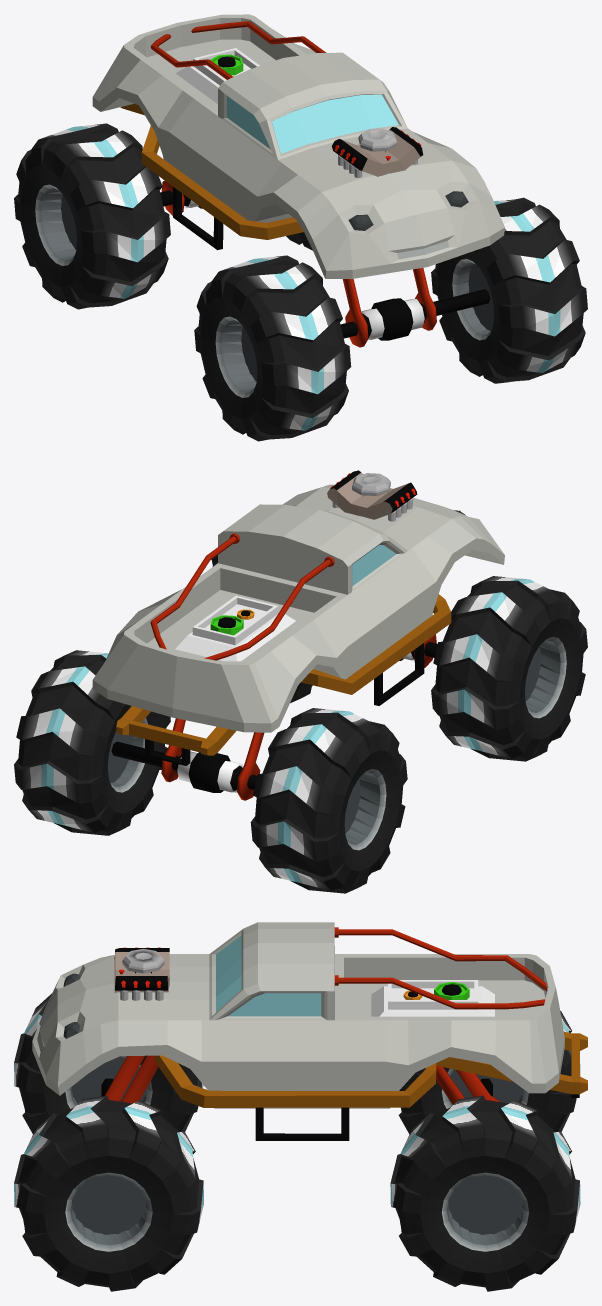
File: White.fbx
3 views of the same model, one above another, from view 1: azimuth 30°, elevation 25°; view 2: azimuth 150°, elevation 25°; view 3: azimuth 270°, elevation 25° (orthographic). The views are drawn at different scales.
Visible parts, largest first — view 1: Axel Front.007; view 2: Axel Front.007; view 3: Axel Front.007.
Boxes of the visible parts, x1=… form: Axel Front.007: x1=14, y1=14, x2=587, y2=441; Axel Front.007: x1=14, y1=470, x2=587, y2=893; Axel Front.007: x1=14, y1=922, x2=587, y2=1291.
Size of the model in its own units: 485 by 385 by 725.
Materials: 5 (1 with a texture image).
